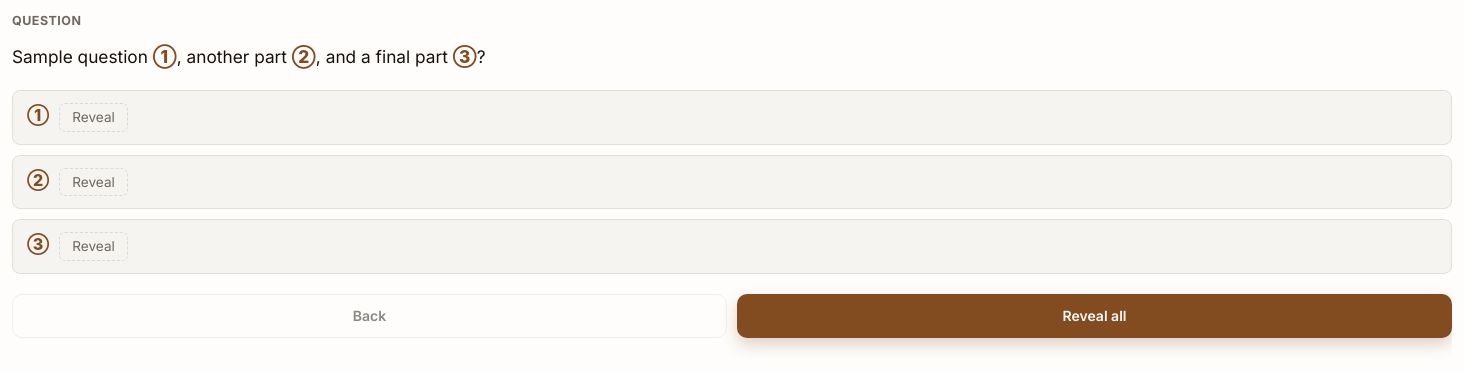
Scenario: QuestionTrainer › revealing one answer leaves the others hidden
Click the 1st button with test id "reveal-answer".
click(94, 118)  # box [59,103,128,132]
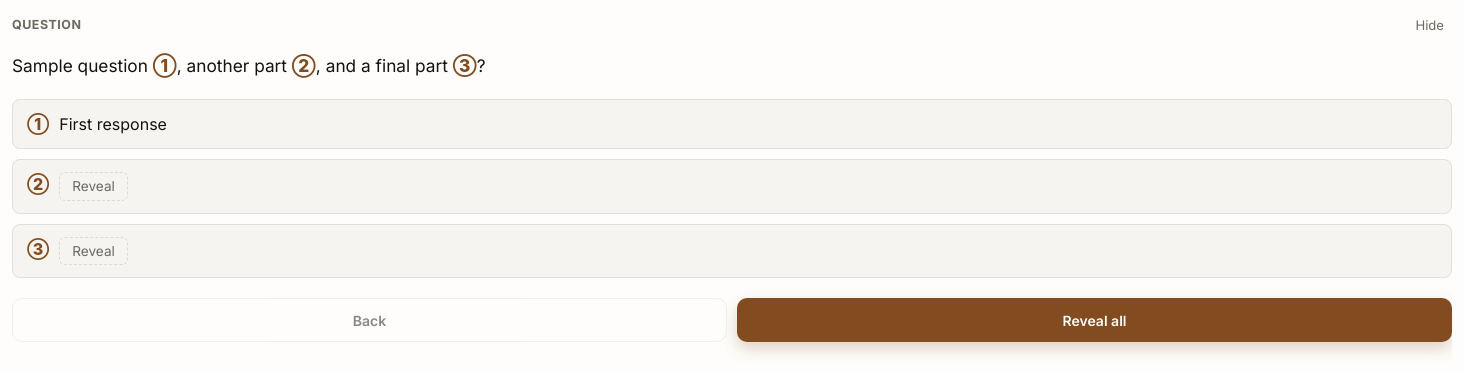
Check: the number of elements with test id "answer-text" is 1, box [59,112,167,136]
Check: the text with test id "answer-text" reads "First response", box [59,114,167,134]
Check: the number of buttons with test id "reveal-answer" is 2, box [59,172,128,201]; [59,237,128,265]
